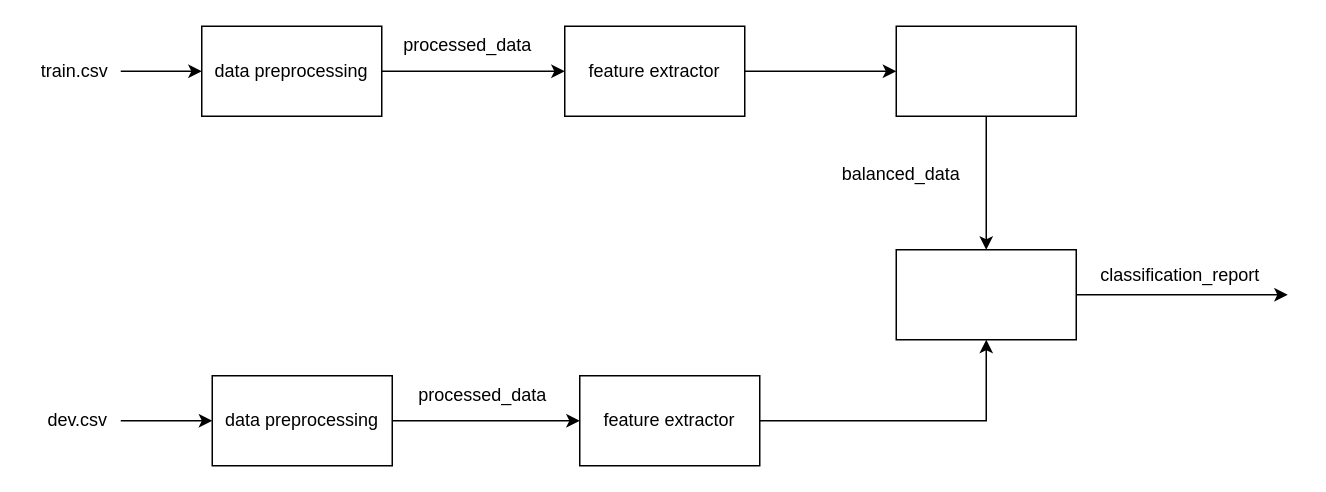
Some shapes in this 1326 by 492 pixel diagram are drawn without their labels. The centre of each missing label's shape, as x and y in pixels:
"data balancing" belongs at point 985,70.
"model" belongs at point 985,294.
